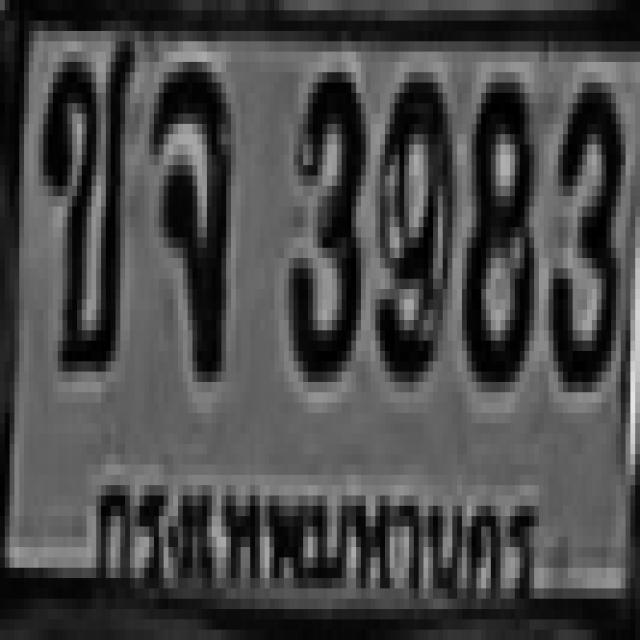17ChorChan: (149, 62, 226, 372)
19ChorChang: (38, 31, 130, 361)
3: (284, 62, 361, 372), (544, 72, 621, 382)
8: (462, 72, 529, 372)
9: (373, 62, 445, 372)
Bangkok: (91, 451, 546, 618)
